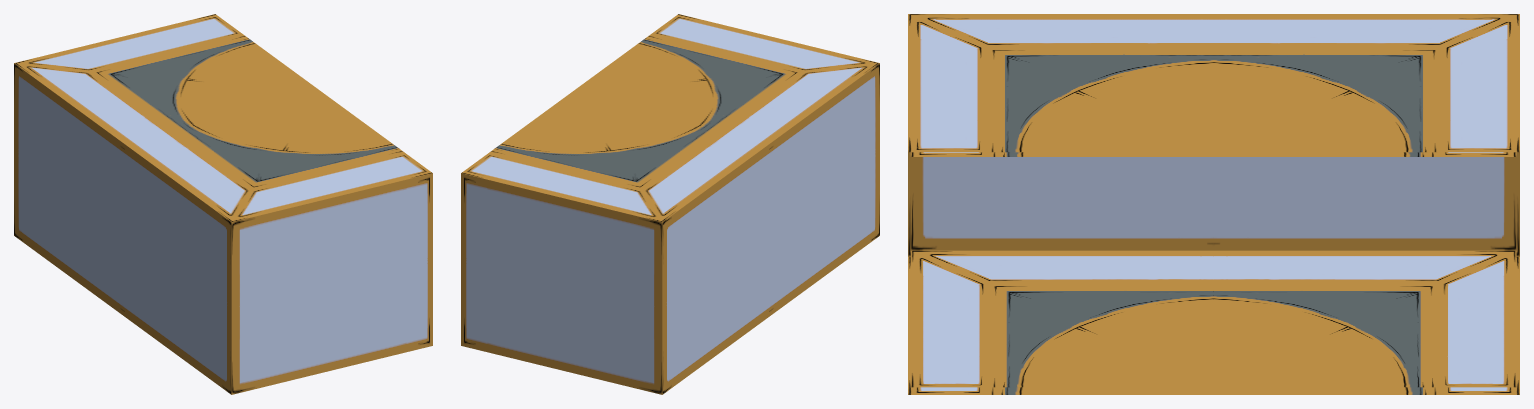
The model's file is diamond_display_hung.fbx.
3 views of the same model, side by side, from view 1: azimuth 30°, elevation 25°; view 2: azimuth 150°, elevation 25°; view 3: azimuth 270°, elevation 25° (orthographic). The views are drawn at different scales.
Visible parts, largest first — view 1: diamond_display_hung; view 2: diamond_display_hung; view 3: diamond_display_hung.
Part boxes in pixels (<box>): diamond_display_hung: <box>14,14,432,394</box>; diamond_display_hung: <box>461,14,879,394</box>; diamond_display_hung: <box>908,14,1519,394</box>.
Size of the model in its own units: 0.9309 by 0.7626 by 1.74.
